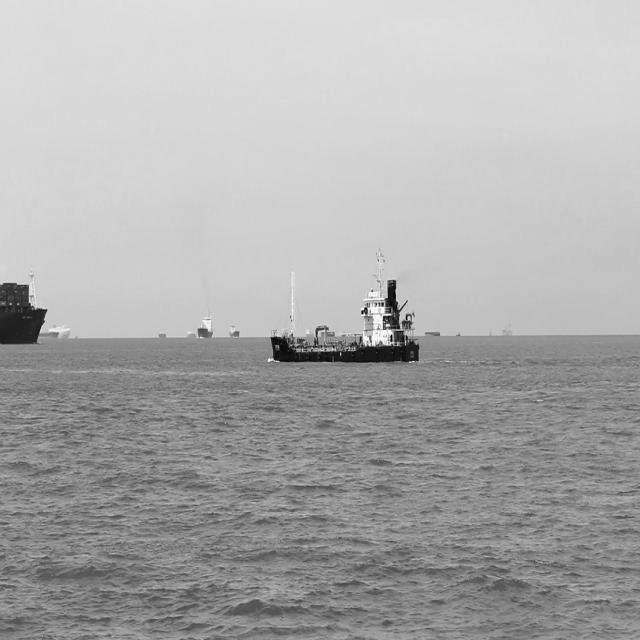ship: (269, 242, 424, 368), (0, 259, 50, 350), (40, 322, 74, 344), (197, 308, 216, 342), (227, 320, 242, 343), (424, 323, 442, 341), (500, 319, 515, 339), (156, 326, 170, 344), (186, 327, 197, 344)
